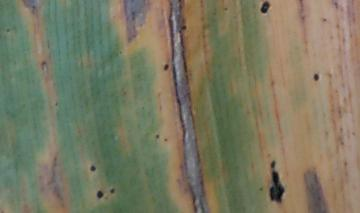tarspot: (268, 172, 286, 205), (259, 1, 271, 15), (95, 190, 104, 200), (269, 159, 277, 170), (313, 71, 320, 83), (180, 23, 189, 32), (163, 63, 170, 72), (107, 187, 116, 194), (4, 26, 11, 35), (222, 5, 230, 12), (257, 185, 264, 192), (91, 166, 97, 173), (321, 17, 328, 23), (154, 133, 160, 139), (163, 137, 168, 143)
